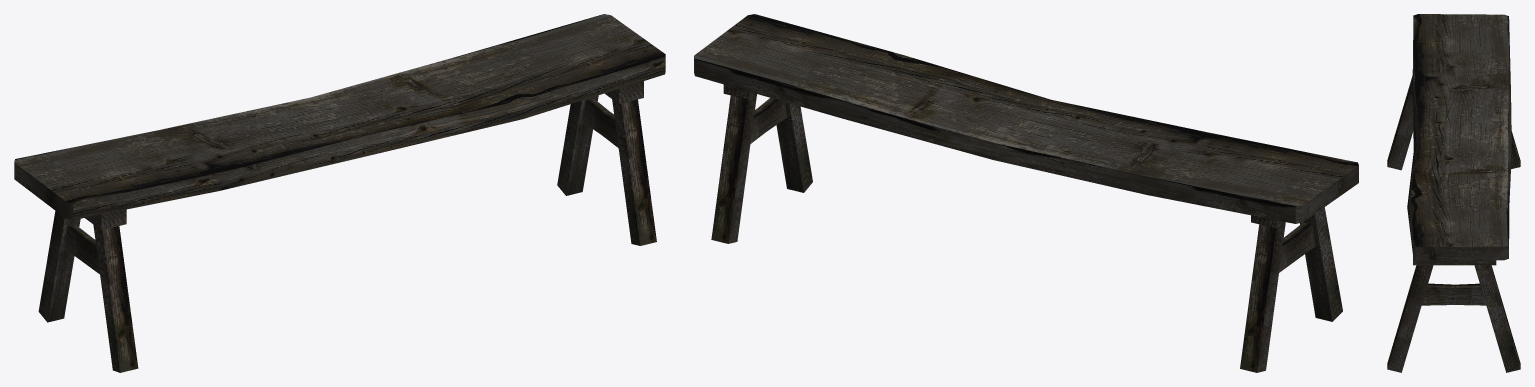
File: G3_Object_Interact_Bench_01.obj
3 renders of one model, left to right at view 1: azimuth 30°, elevation 25°; view 2: azimuth 150°, elevation 25°; view 3: azimuth 270°, elevation 25°, orthographic. The views are drawn at different scales.
Parts seen in each view (by area): view 1: G3_Object_Interact_Bench_01_0; view 2: G3_Object_Interact_Bench_01_0; view 3: G3_Object_Interact_Bench_01_0.
Boxes of the visible parts, bbox=[...] form: G3_Object_Interact_Bench_01_0: bbox=[14, 14, 665, 372]; G3_Object_Interact_Bench_01_0: bbox=[694, 14, 1358, 372]; G3_Object_Interact_Bench_01_0: bbox=[1387, 14, 1520, 372].
Size of the model in its own units: 2.41 by 0.6574 by 0.579.
